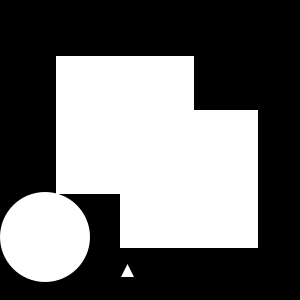circle: (56, 56, 194, 194), (120, 110, 258, 248)
rectangle: (0, 192, 90, 282)
triangle: (121, 264, 134, 277)
